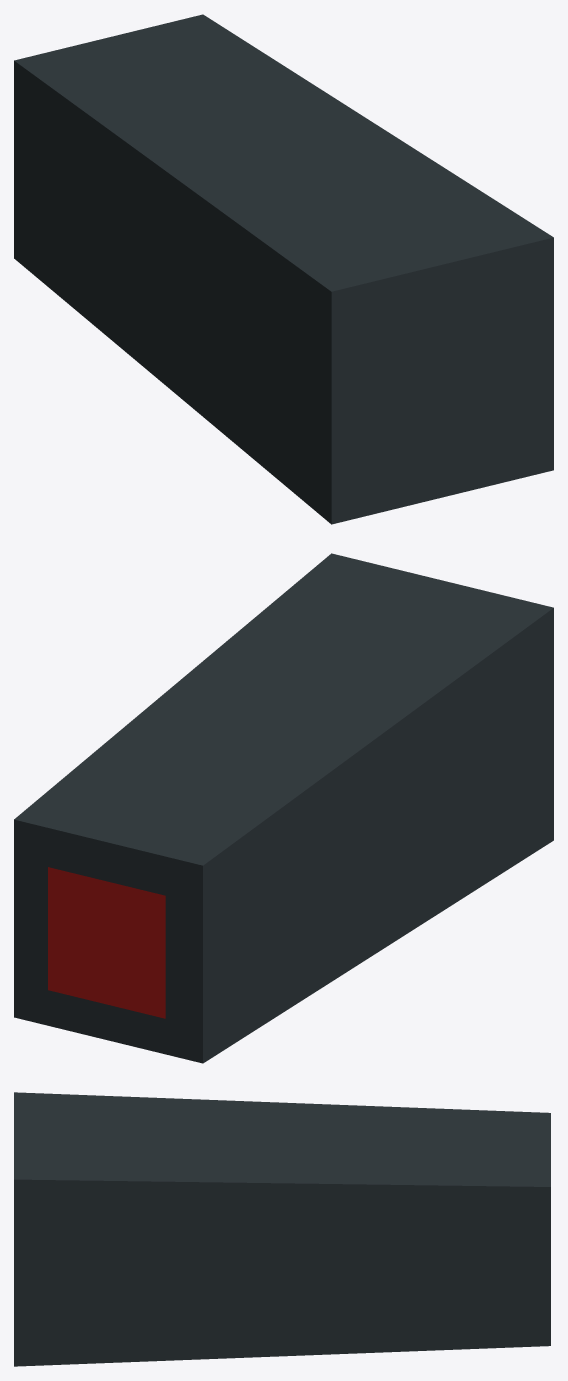
3 views of the same model, one above another, from view 1: azimuth 30°, elevation 25°; view 2: azimuth 150°, elevation 25°; view 3: azimuth 270°, elevation 25° (orthographic). The views are drawn at different scales.
Visible parts, largest first — view 1: mount; view 2: mount; view 3: mount.
Boxes of the visible parts, x1=… form: mount: x1=14, y1=14, x2=553, y2=524; mount: x1=14, y1=553, x2=553, y2=1063; mount: x1=14, y1=1092, x2=550, y2=1366.
Size of the model in its own units: 2.12 by 2.12 by 5.55.
